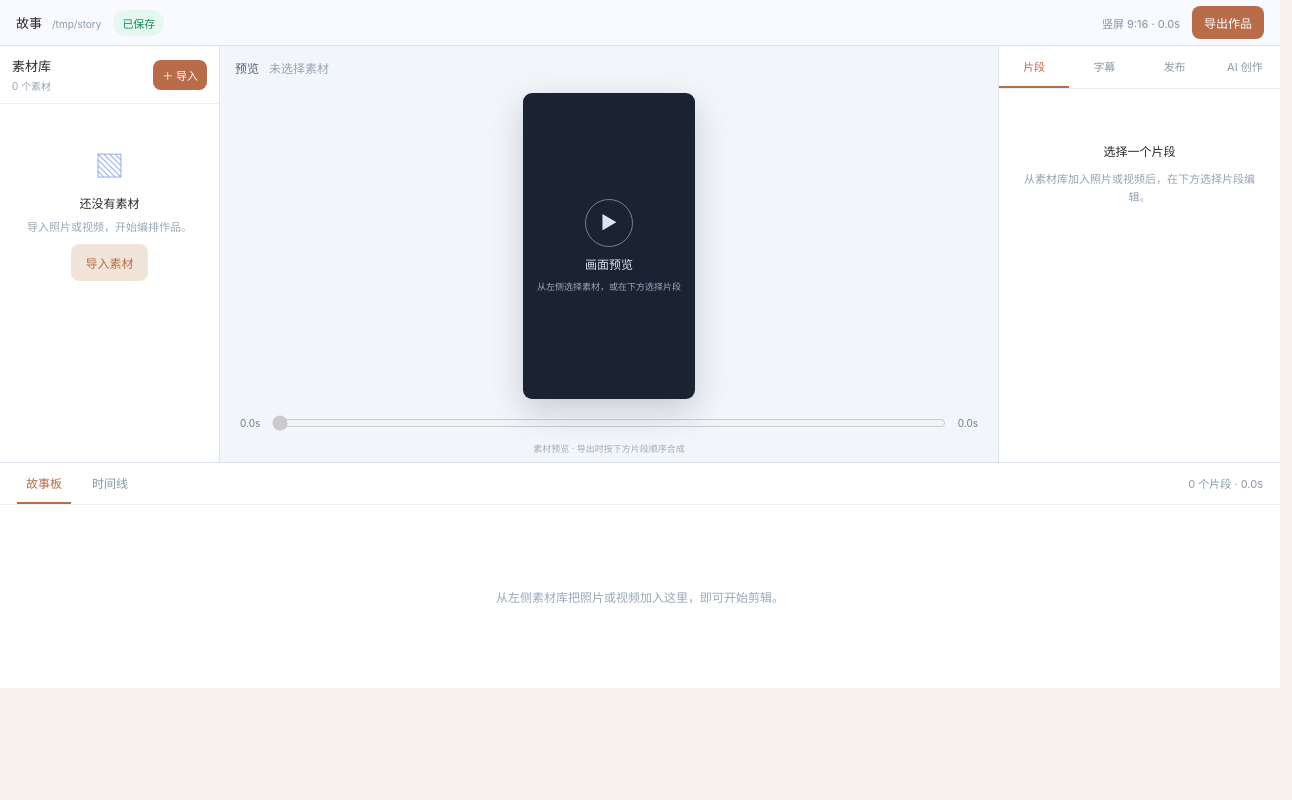
Test: ProjectWorkspace › imports a selected file into the project and saves the manifest
The width and height of the screenshot is (1292, 800).
Click the button "＋ 导入".
click(180, 74)  # box [153,60,207,90]
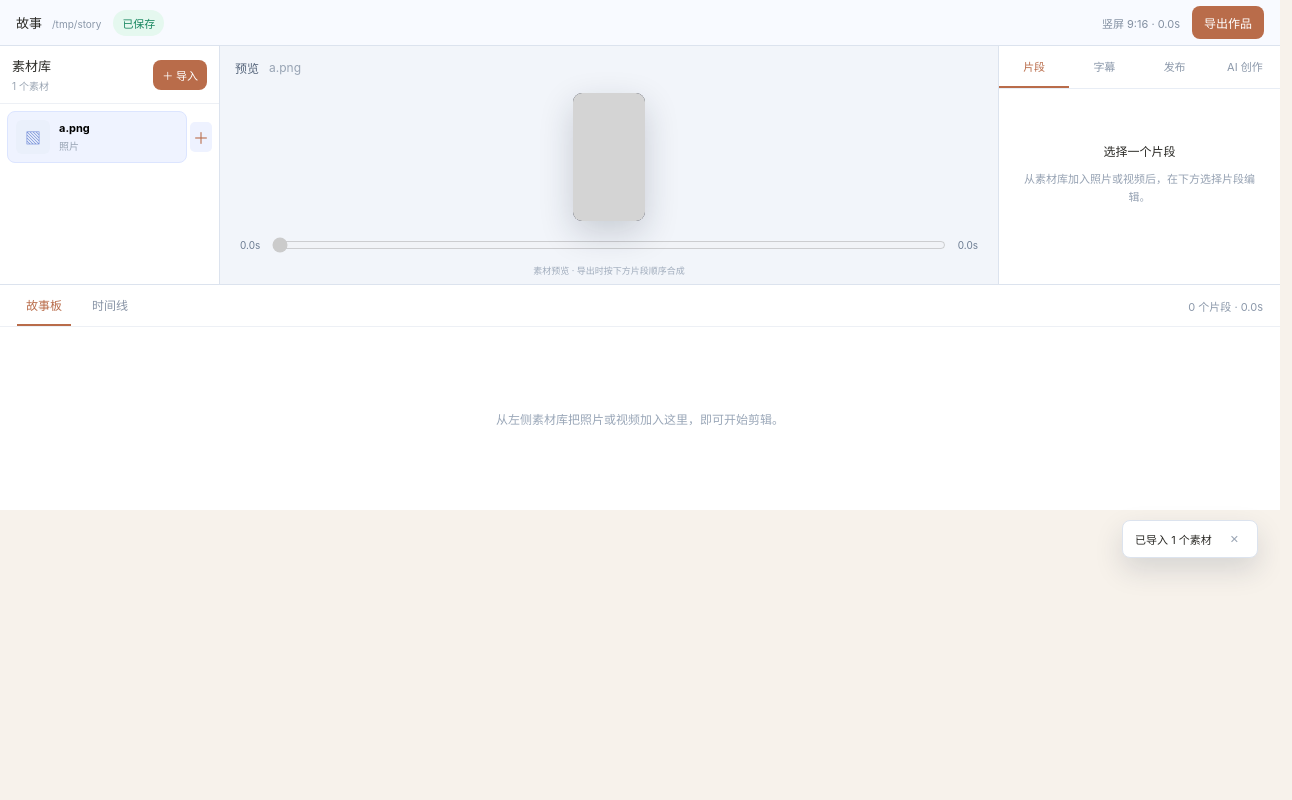
Expected: the button named "将 a.png 加入时间线" is shown, [190,122,212,152]
